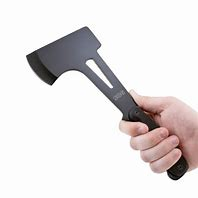axe: (24, 24, 192, 181)
